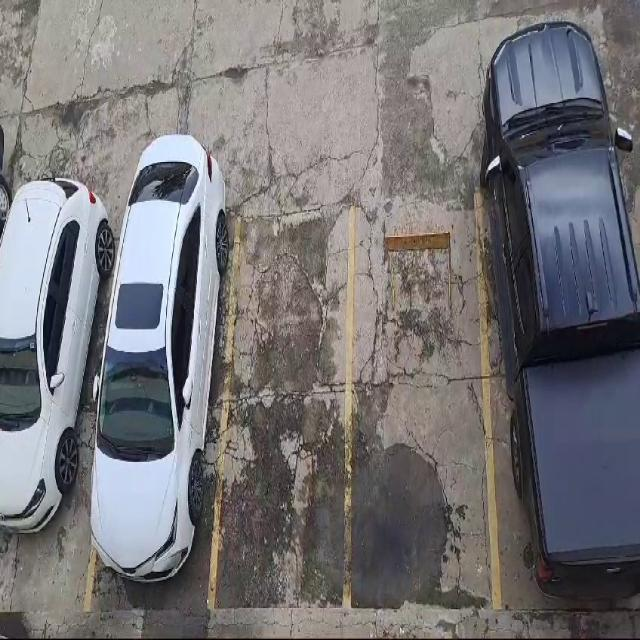empty: (348, 196, 498, 606), (211, 208, 353, 608)
notEmpty: (478, 168, 639, 609), (85, 215, 239, 609), (0, 225, 129, 610)
